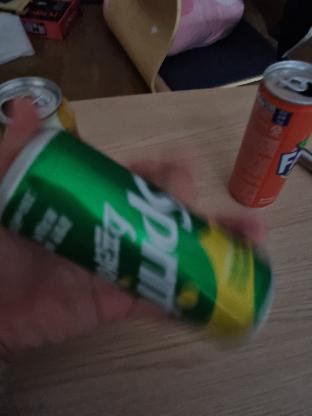Can: (22, 156, 266, 340)
